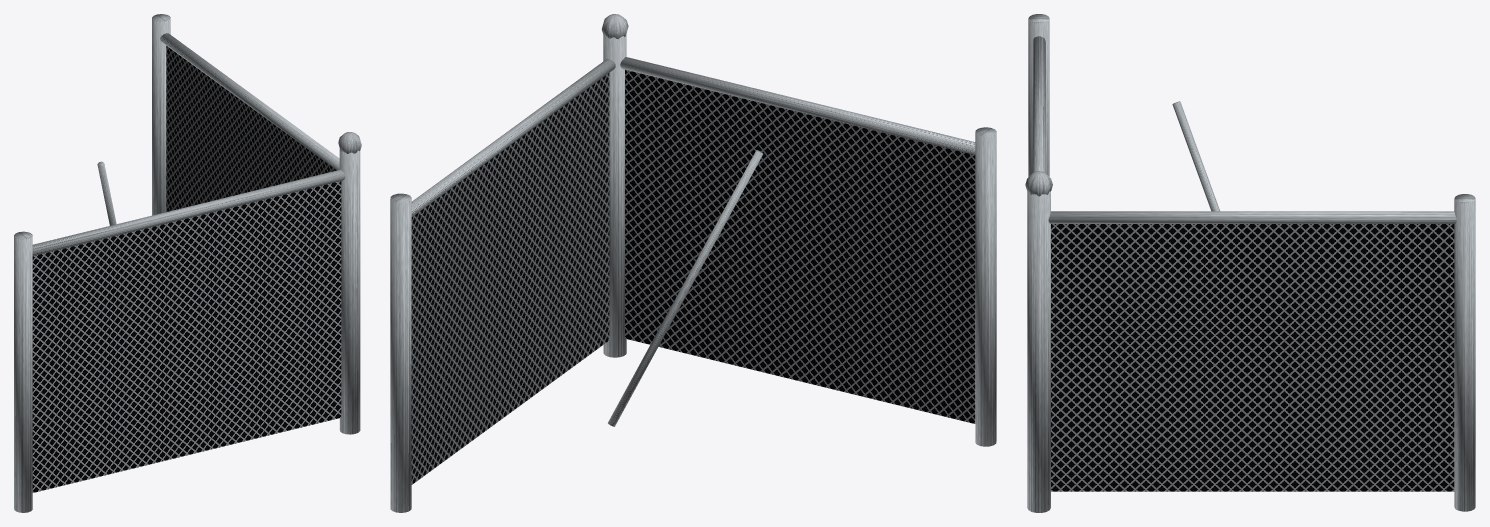
File: WK_WALL_ChainlinkCorner.glb
3 renders of one model, left to right at view 1: azimuth 30°, elevation 25°; view 2: azimuth 150°, elevation 25°; view 3: azimuth 270°, elevation 25°, orthographic. The views are drawn at different scales.
Visible parts, largest first — view 1: WK_WALL_ChainlinkCorner_P07, WK_WALL_ChainlinkCorner_P08, WK_WALL_ChainlinkCorner_P01, WK_WALL_ChainlinkCorner_P03, WK_WALL_ChainlinkCorner_P05, WK_WALL_ChainlinkCorner_P04, WK_WALL_ChainlinkCorner_P06, WK_WALL_ChainlinkCorner_P09, WK_WALL_ChainlinkCorner_P02; view 2: WK_WALL_ChainlinkCorner_P07, WK_WALL_ChainlinkCorner_P08, WK_WALL_ChainlinkCorner_P03, WK_WALL_ChainlinkCorner_P04, WK_WALL_ChainlinkCorner_P01, WK_WALL_ChainlinkCorner_P05, WK_WALL_ChainlinkCorner_P06, WK_WALL_ChainlinkCorner_P09; view 3: WK_WALL_ChainlinkCorner_P08, WK_WALL_ChainlinkCorner_P01, WK_WALL_ChainlinkCorner_P04, WK_WALL_ChainlinkCorner_P06, WK_WALL_ChainlinkCorner_P05, WK_WALL_ChainlinkCorner_P03, WK_WALL_ChainlinkCorner_P09, WK_WALL_ChainlinkCorner_P02.
Part boxes in pixels (x1,y1,x2,y2): WK_WALL_ChainlinkCorner_P07: (32, 181, 341, 492); WK_WALL_ChainlinkCorner_P08: (166, 46, 336, 211); WK_WALL_ChainlinkCorner_P01: (339, 149, 360, 434); WK_WALL_ChainlinkCorner_P03: (14, 231, 32, 512); WK_WALL_ChainlinkCorner_P05: (32, 169, 345, 255); WK_WALL_ChainlinkCorner_P04: (152, 14, 170, 215); WK_WALL_ChainlinkCorner_P06: (160, 33, 339, 170); WK_WALL_ChainlinkCorner_P09: (97, 161, 116, 225); WK_WALL_ChainlinkCorner_P02: (338, 132, 361, 153); WK_WALL_ChainlinkCorner_P07: (625, 69, 975, 423); WK_WALL_ChainlinkCorner_P08: (411, 73, 609, 484); WK_WALL_ChainlinkCorner_P03: (975, 127, 996, 446); WK_WALL_ChainlinkCorner_P04: (390, 193, 411, 512); WK_WALL_ChainlinkCorner_P01: (603, 33, 626, 357); WK_WALL_ChainlinkCorner_P05: (620, 57, 975, 154); WK_WALL_ChainlinkCorner_P06: (411, 59, 615, 216); WK_WALL_ChainlinkCorner_P09: (608, 150, 763, 426); WK_WALL_ChainlinkCorner_P08: (1051, 224, 1454, 491); WK_WALL_ChainlinkCorner_P01: (1027, 191, 1050, 512); WK_WALL_ChainlinkCorner_P04: (1454, 194, 1475, 511); WK_WALL_ChainlinkCorner_P06: (1048, 211, 1456, 223); WK_WALL_ChainlinkCorner_P05: (1032, 36, 1045, 172); WK_WALL_ChainlinkCorner_P03: (1028, 14, 1049, 176); WK_WALL_ChainlinkCorner_P09: (1172, 101, 1219, 211); WK_WALL_ChainlinkCorner_P02: (1025, 171, 1052, 196).
Size of the model in its own units: 2.11 by 1.74 by 2.11.
Materials: 2 (2 with a texture image).
